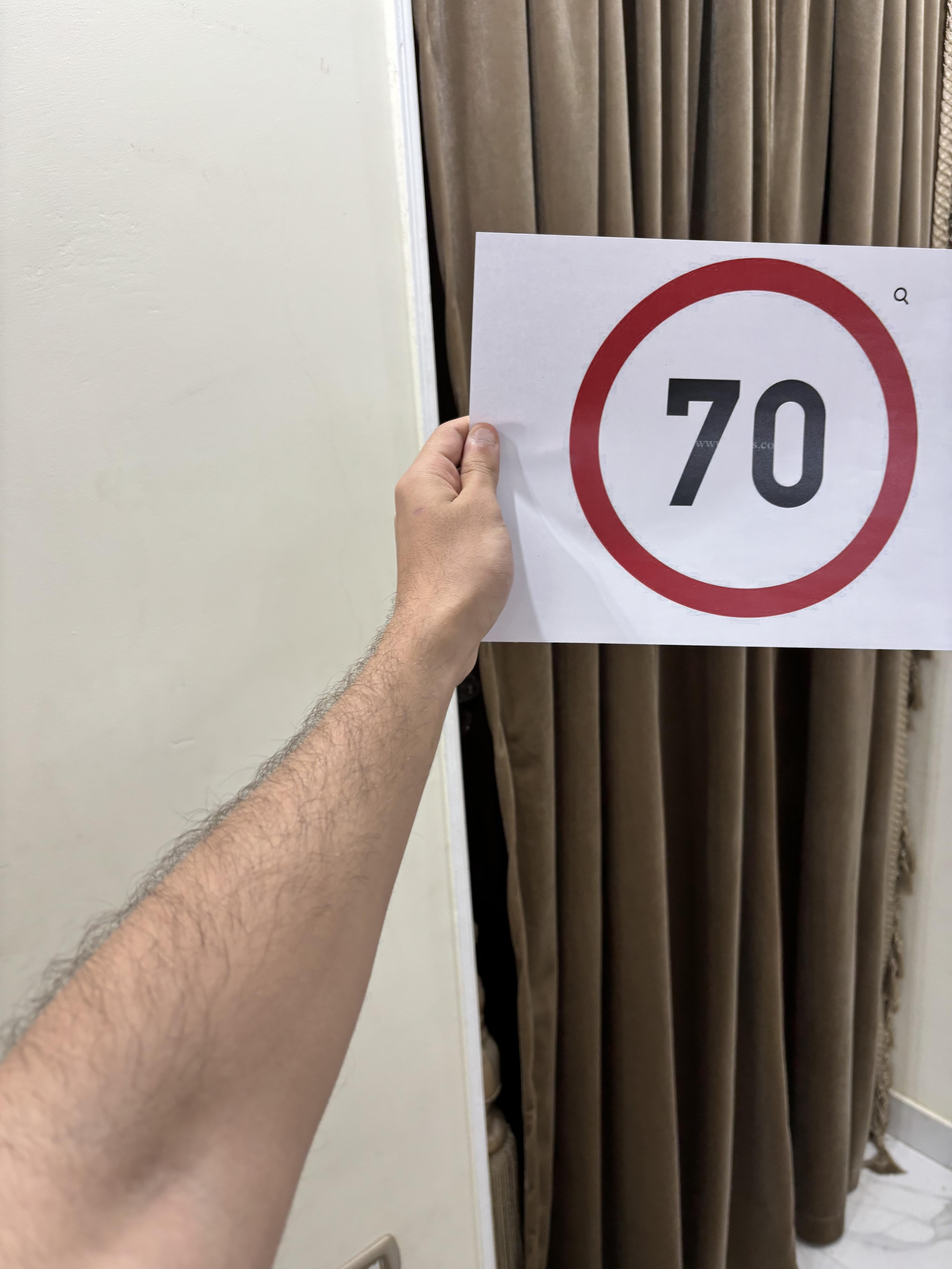70-Speed: (566, 256, 927, 620)
